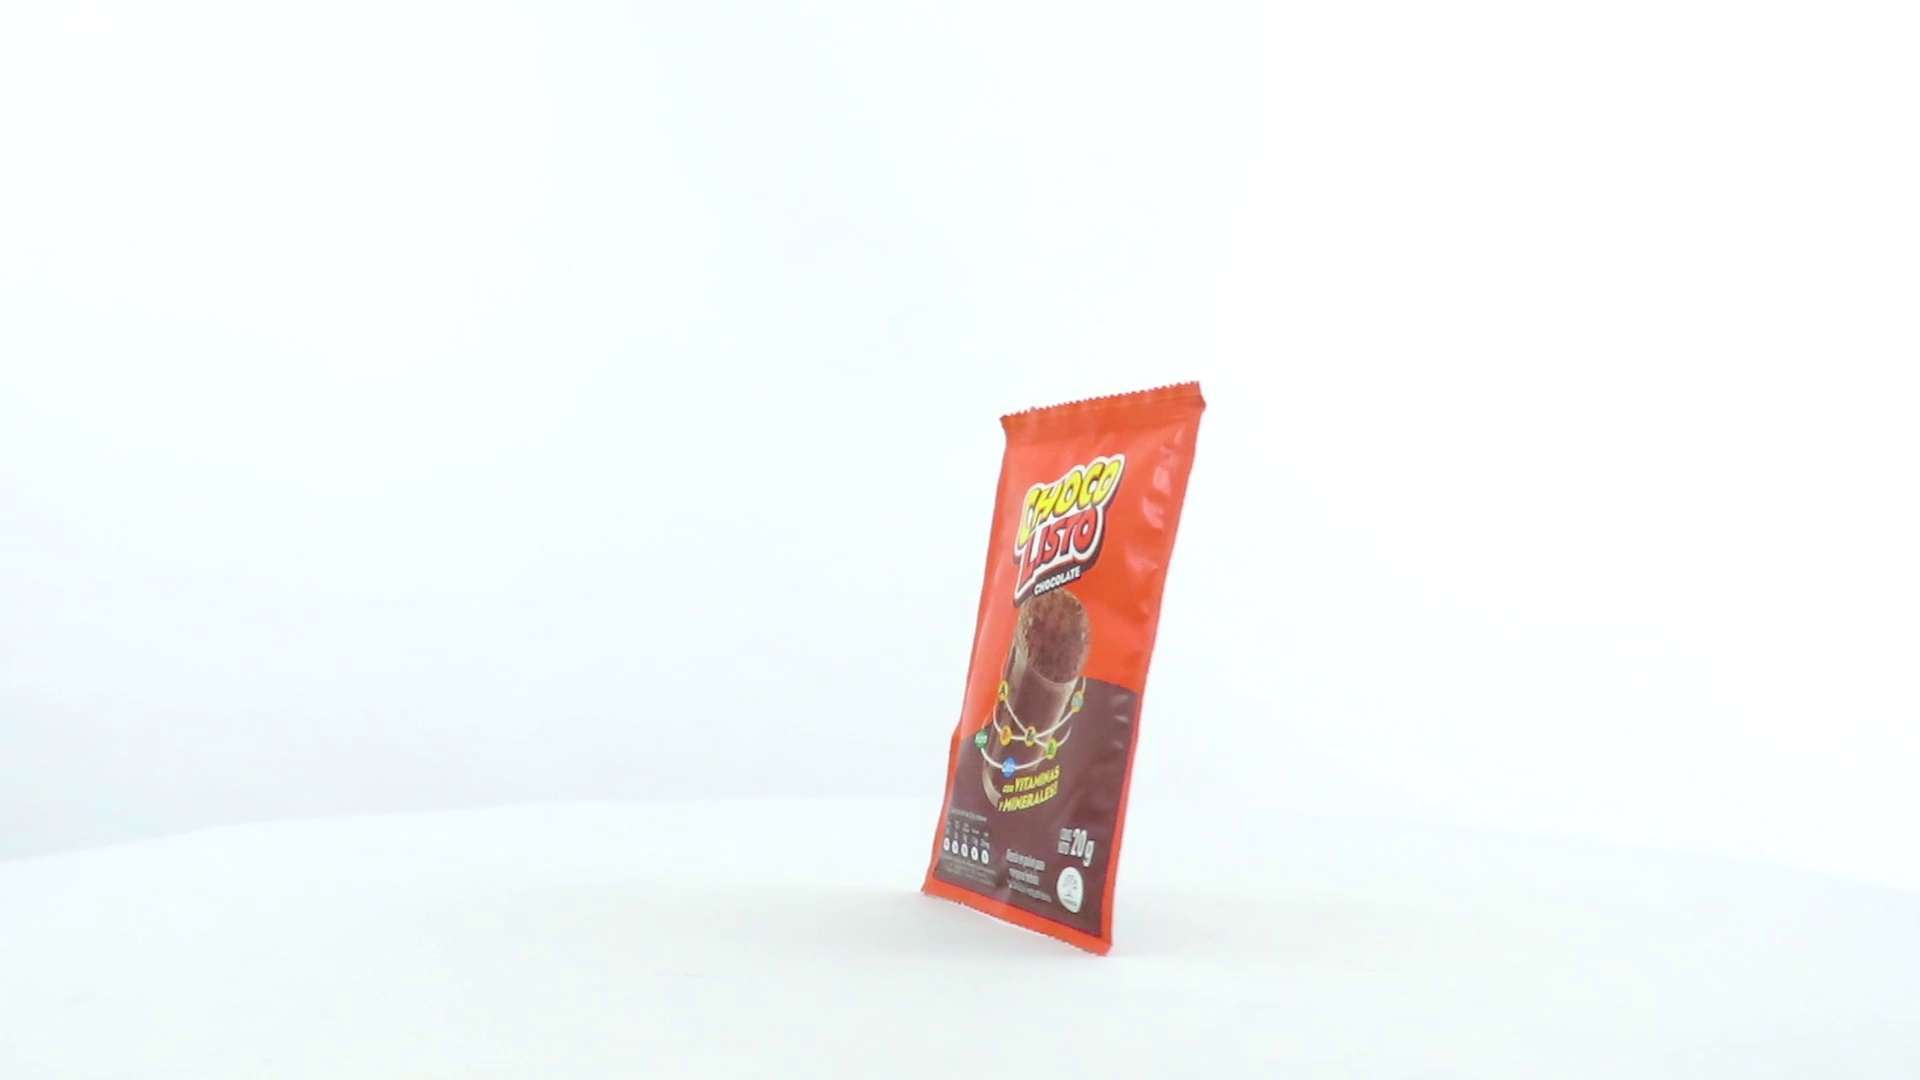COL0170103SOB02000: (916, 376, 1212, 963)
